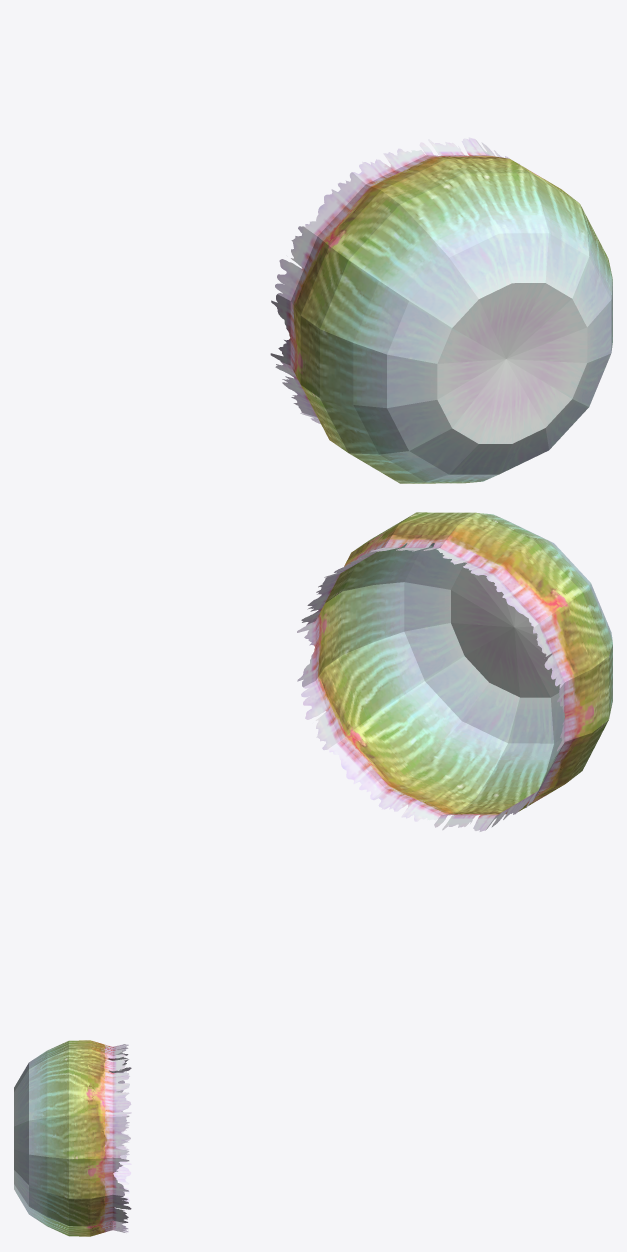
File: animal_shuimu.obj
The picture shows the model from 3 angles, top to bottom: view 1: azimuth 30°, elevation 25°; view 2: azimuth 150°, elevation 25°; view 3: azimuth 270°, elevation 25°; orthographic projection. The views are drawn at different scales.
Parts seen in each view (by area): view 1: Animal_shuimu; view 2: Animal_shuimu; view 3: Animal_shuimu.
Boxes of the visible parts, <box> form: Animal_shuimu: <box>270,137,612,483</box>; Animal_shuimu: <box>297,512,612,831</box>; Animal_shuimu: <box>14,1040,131,1236</box>.
Size of the model in its own units: 65.37 by 67.05 by 203.
1 material, 1 textured.
